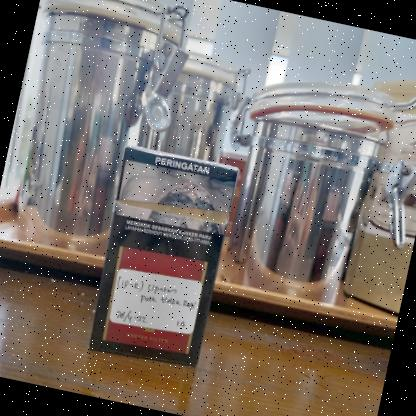bungkus rokok: (67, 125, 255, 386)
